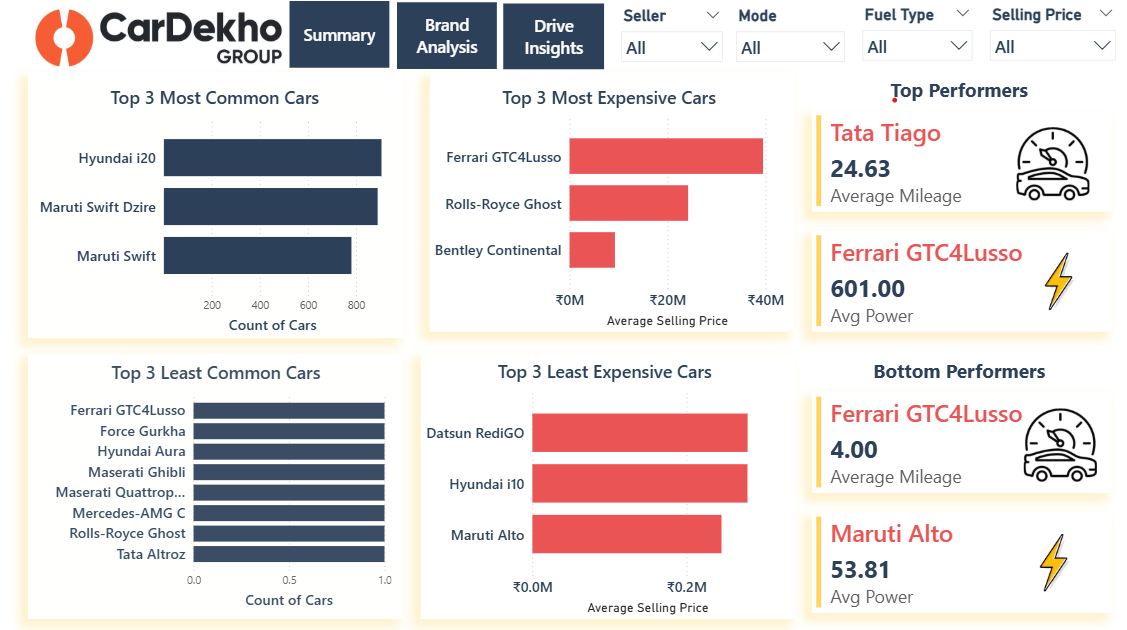

This screenshot's page, from the dashboard's own definition file:
{"tool":"powerbi","page":{"name":"Brand Analysis","canvas":[1280,720],"ordinal":1},"visuals":[{"type":"shape","box":[487.1,86.4,410.3,292.3],"z":0},{"type":"shape","box":[35.7,86.4,422.6,299.1],"z":1000},{"type":"clusteredBarChart","title":"Top 3 Most Common Cars","fields":{"Category":["cars.car_name"],"Y":["cars.Count of Cars"]},"box":[42.5,100.2,406.2,285.4],"z":2000},{"type":"clusteredBarChart","title":"Top 3 Most Expensive Cars","fields":{"Category":["cars.car_name"],"Y":["cars.Avg SP"]},"box":[487.1,100.2,404.8,278.6],"z":3000},{"type":"shape","box":[477.5,403.4,422.6,299.1],"z":4000},{"type":"clusteredBarChart","title":"Top 3 Least Common Cars","fields":{"Category":["cars.car_name"],"Y":["cars.Count of Cars"]},"box":[43.9,410.3,406.2,285.4],"z":5000},{"type":"shape","box":[35.7,403.4,422.6,299.1],"z":6000},{"type":"clusteredBarChart","title":"Top 3 Least Expensive Cars","fields":{"Category":["cars.car_name"],"Y":["cars.Avg SP"]},"box":[477.5,408.9,414.4,293.7],"z":7000},{"type":"multiRowCard","fields":{"Values":["cars.Avg Mileage num","cars.car_name"]},"box":[918,129,337.6,113.9],"z":8000},{"type":"textbox","box":[918,86.4,337.6,42.5],"z":9000},{"type":"multiRowCard","fields":{"Values":["cars.car_name","cars.Avg Power"]},"box":[918,264.8,337.6,113.9],"z":10000},{"type":"textbox","box":[918,403.4,337.6,39.8],"z":11000},{"type":"multiRowCard","fields":{"Values":["cars.Avg Mileage num","cars.car_name"]},"box":[918,446,337.6,113.9],"z":12000},{"type":"multiRowCard","fields":{"Values":["cars.car_name","cars.Avg Power"]},"box":[918,581.8,337.6,113.9],"z":13000},{"type":"image","box":[35.7,0,293.7,94.7],"z":14000},{"type":"slicer","title":"Fuel Type","fields":{"Values":["cars.fuel_type"]},"box":[964.7,5.5,144.1,70],"z":15000},{"type":"slicer","title":"Fuel Type","fields":{"Values":["cars.selling_price"]},"box":[1108.8,5.5,161.9,70],"z":16000},{"type":"slicer","title":"Fuel Type","fields":{"Values":["cars.transmission_type"]},"box":[822,6.9,142.7,70],"z":17000},{"type":"slicer","title":"Fuel Type","fields":{"Values":["cars.seller_type"]},"box":[693,6.9,134.5,70],"z":18000},{"type":"actionButton","box":[329.3,5.5,112.5,75.5],"z":19000},{"type":"actionButton","box":[450.1,6.9,112.5,75.5],"z":20000},{"type":"actionButton","box":[570.8,8.2,113.9,74.1],"z":21000},{"type":"image","box":[1143.1,142.7,91.9,93.3],"z":22000},{"type":"image","box":[1152.7,459.7,91.9,93.3],"z":23000},{"type":"image","box":[1137.6,581.8,107,113.9],"z":24000},{"type":"image","box":[1143.1,264.8,107,113.9],"z":25000}]}

Visuals, with their boxes in screenshot pixels (x1, y1, x2, y2), scaled from the page's 1280x720 canvas onto the 1127x630 screenshot:
shape: <bbox>429, 76, 790, 331</bbox>
shape: <bbox>31, 76, 404, 337</bbox>
"Top 3 Most Common Cars" clusteredBarChart: <bbox>37, 88, 395, 337</bbox>
"Top 3 Most Expensive Cars" clusteredBarChart: <bbox>429, 88, 785, 331</bbox>
shape: <bbox>420, 353, 793, 615</bbox>
"Top 3 Least Common Cars" clusteredBarChart: <bbox>39, 359, 396, 609</bbox>
shape: <bbox>31, 353, 404, 615</bbox>
"Top 3 Least Expensive Cars" clusteredBarChart: <bbox>420, 358, 785, 615</bbox>
multiRowCard - cars.Avg Mileage num x cars.car_name: <bbox>808, 113, 1106, 213</bbox>
textbox: <bbox>808, 76, 1106, 113</bbox>
multiRowCard - cars.car_name x cars.Avg Power: <bbox>808, 232, 1106, 331</bbox>
textbox: <bbox>808, 353, 1106, 388</bbox>
multiRowCard - cars.Avg Mileage num x cars.car_name: <bbox>808, 390, 1106, 490</bbox>
multiRowCard - cars.car_name x cars.Avg Power: <bbox>808, 509, 1106, 609</bbox>
image: <bbox>31, 0, 290, 83</bbox>
"Fuel Type" slicer: <bbox>849, 5, 976, 66</bbox>
"Fuel Type" slicer: <bbox>976, 5, 1119, 66</bbox>
"Fuel Type" slicer: <bbox>724, 6, 849, 67</bbox>
"Fuel Type" slicer: <bbox>610, 6, 729, 67</bbox>
actionButton: <bbox>290, 5, 389, 71</bbox>
actionButton: <bbox>396, 6, 495, 72</bbox>
actionButton: <bbox>503, 7, 603, 72</bbox>
image: <bbox>1006, 125, 1087, 206</bbox>
image: <bbox>1015, 402, 1096, 484</bbox>
image: <bbox>1002, 509, 1096, 609</bbox>
image: <bbox>1006, 232, 1101, 331</bbox>
